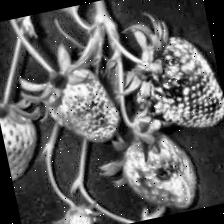Powdery Mildew Fruit: (121, 28, 224, 140), (38, 58, 124, 152)
